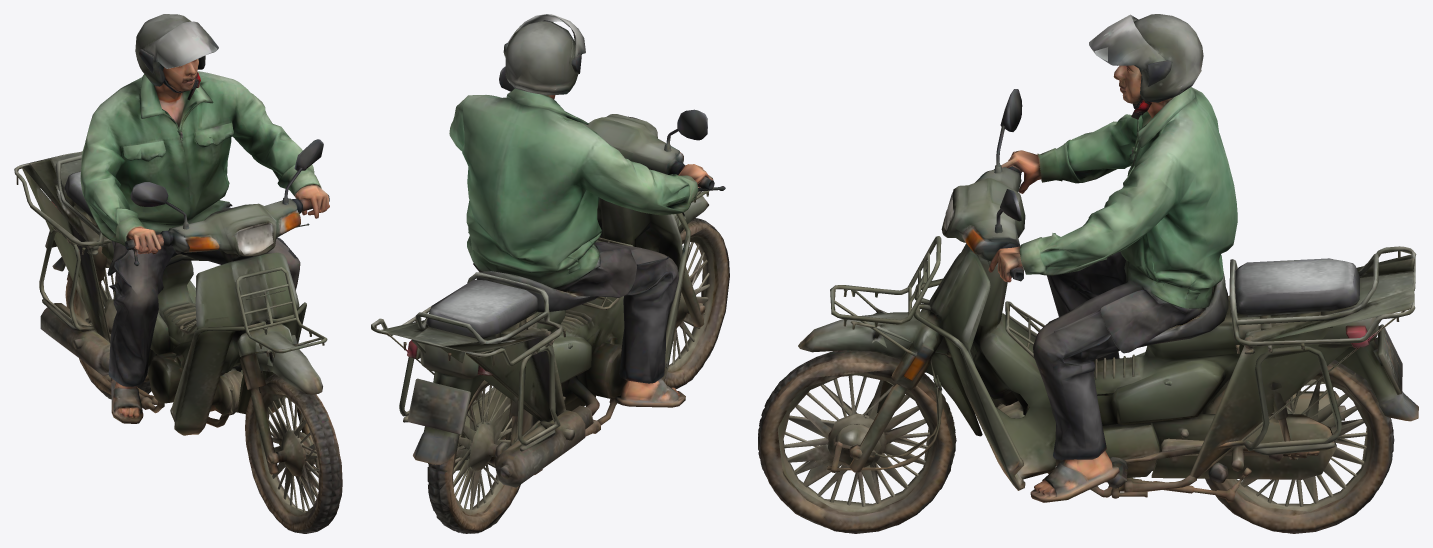
File: xeom.glb
The picture shows the model from 3 angles, left to right: view 1: azimuth 30°, elevation 25°; view 2: azimuth 150°, elevation 25°; view 3: azimuth 270°, elevation 25°; orthographic projection. The views are drawn at different scales.
Visible parts, largest first — view 1: tripo_node_a23172d6-a4ad-4091-a6a2-be6696853d24; view 2: tripo_node_a23172d6-a4ad-4091-a6a2-be6696853d24; view 3: tripo_node_a23172d6-a4ad-4091-a6a2-be6696853d24.
Boxes of the visible parts, left/top/right/bottom form: tripo_node_a23172d6-a4ad-4091-a6a2-be6696853d24: left=14, top=14, right=342, bottom=533; tripo_node_a23172d6-a4ad-4091-a6a2-be6696853d24: left=371, top=14, right=729, bottom=533; tripo_node_a23172d6-a4ad-4091-a6a2-be6696853d24: left=758, top=14, right=1418, bottom=533.
Bounding box in the file's own units: 0.4448 × 0.8579 × 0.998.
Materials: 1 (1 with a texture image).
